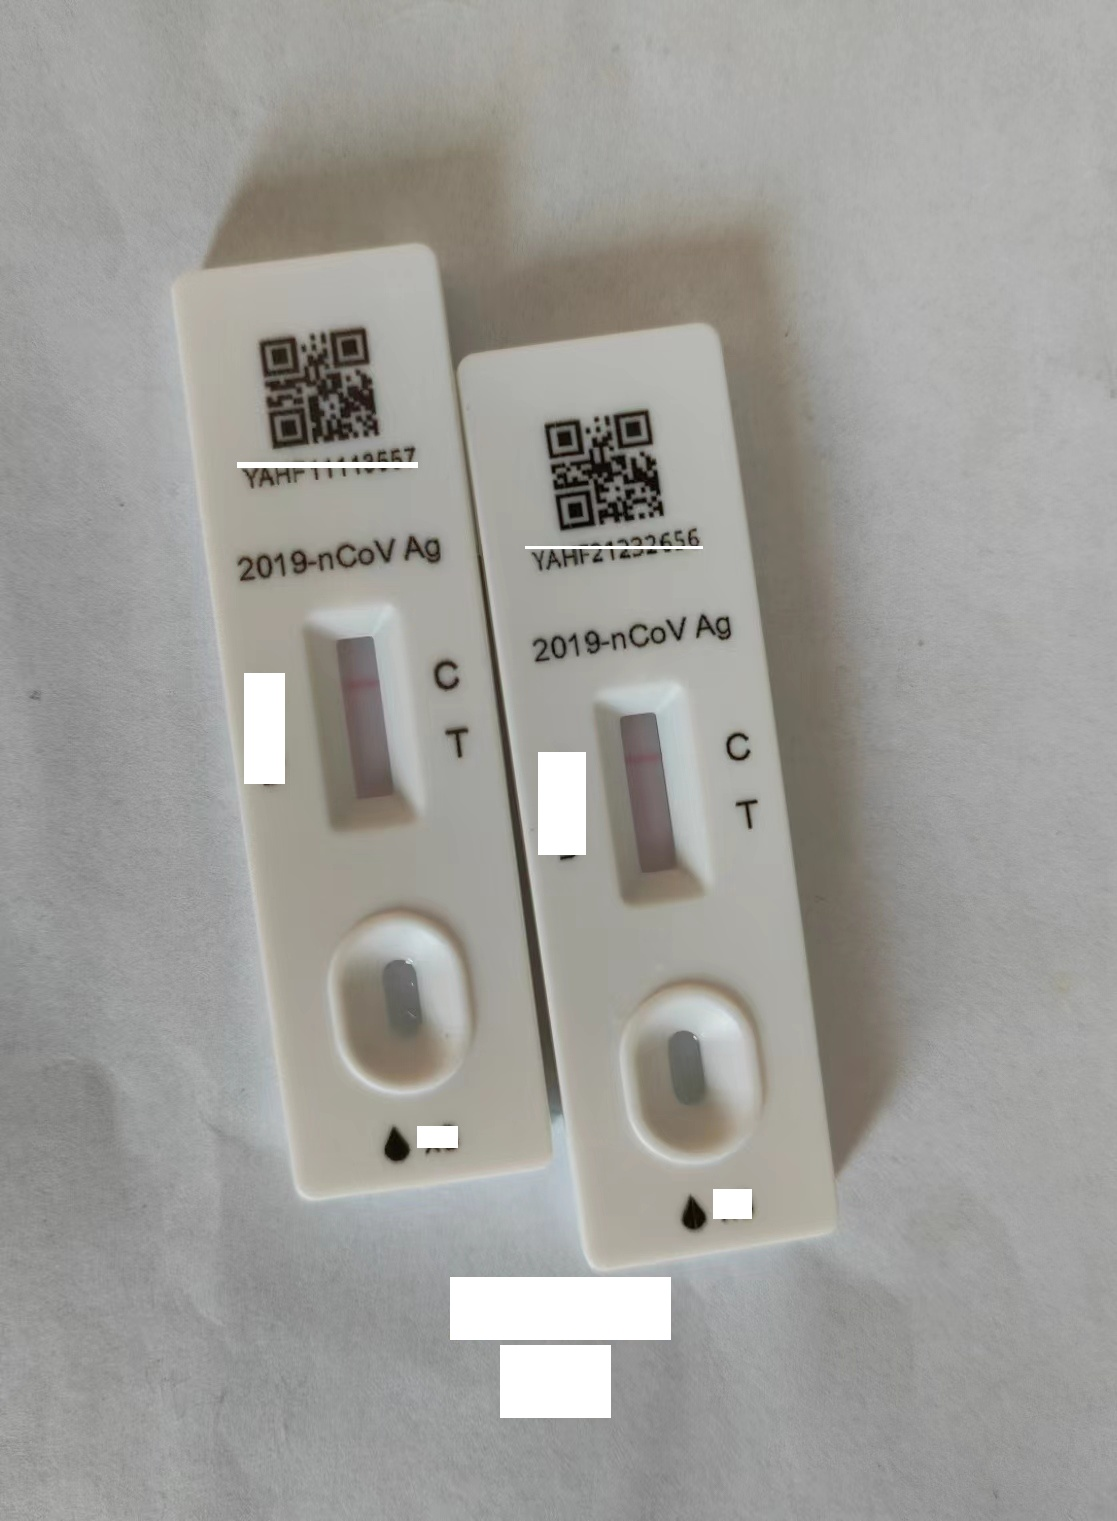negative: (306, 596, 418, 838), (594, 685, 704, 905)
